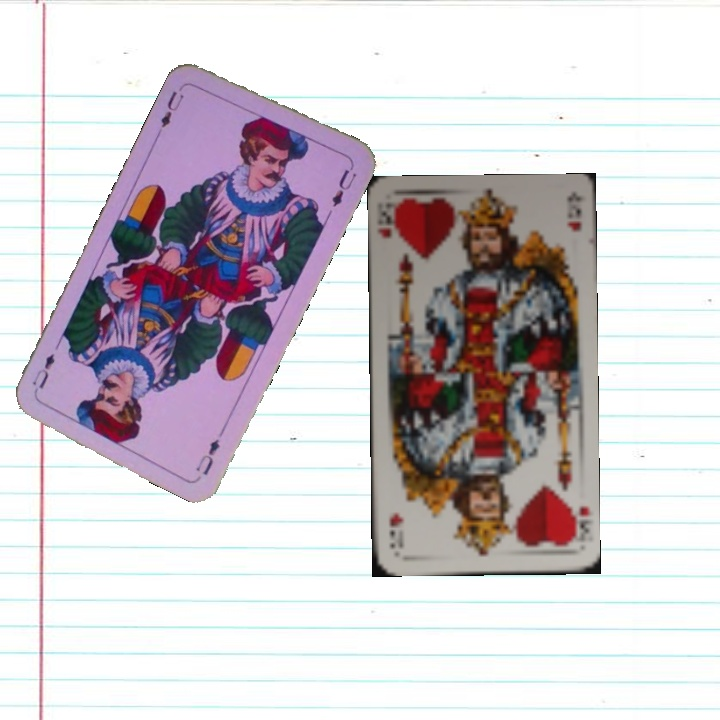EU: (156, 80, 189, 130), (191, 435, 223, 478)
HK: (564, 496, 591, 547), (375, 201, 402, 241)
